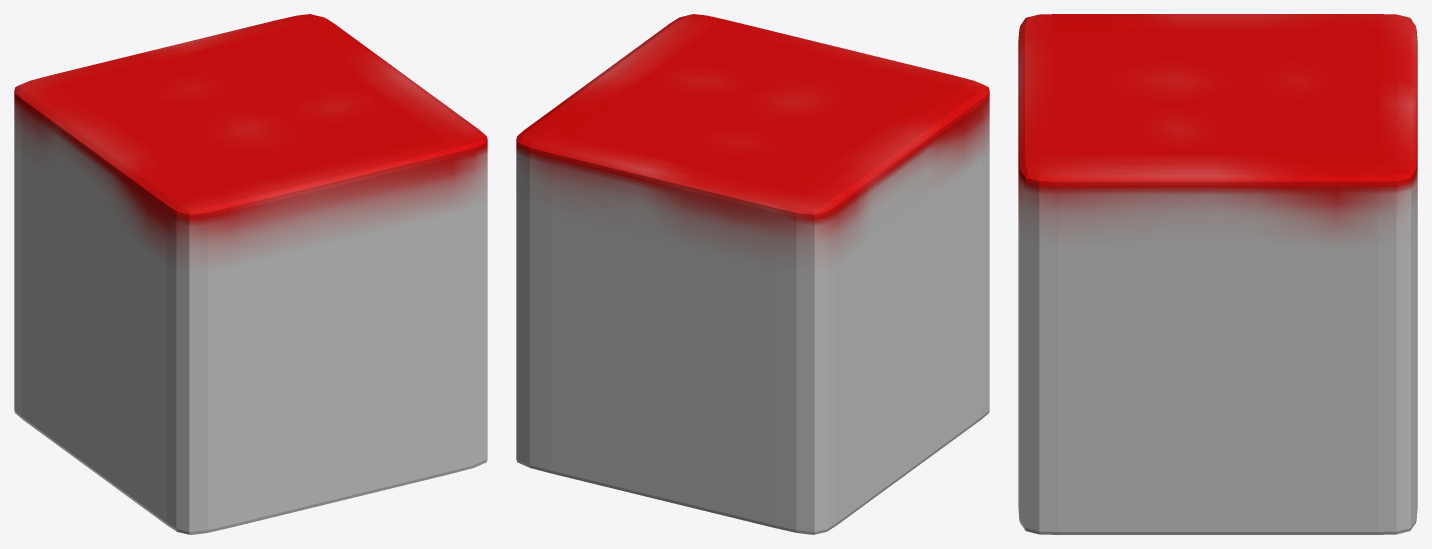
Rendered from WaterCube.fbx.
The picture shows the model from 3 angles, left to right: view 1: azimuth 30°, elevation 25°; view 2: azimuth 150°, elevation 25°; view 3: azimuth 270°, elevation 25°; orthographic projection. The views are drawn at different scales.
Parts seen in each view (by area): view 1: Cube; view 2: Cube; view 3: Cube.
Part boxes in pixels (left/top/right/bottom): Cube: left=14, top=14, right=487, bottom=534; Cube: left=516, top=14, right=989, bottom=534; Cube: left=1018, top=14, right=1417, bottom=534.
Size of the model in its own units: 200 by 200 by 200.
